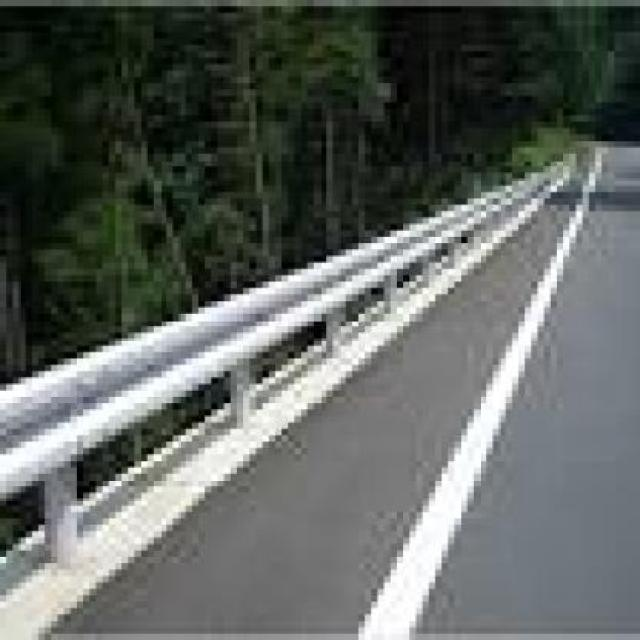Guard rail: (0, 152, 574, 600)
